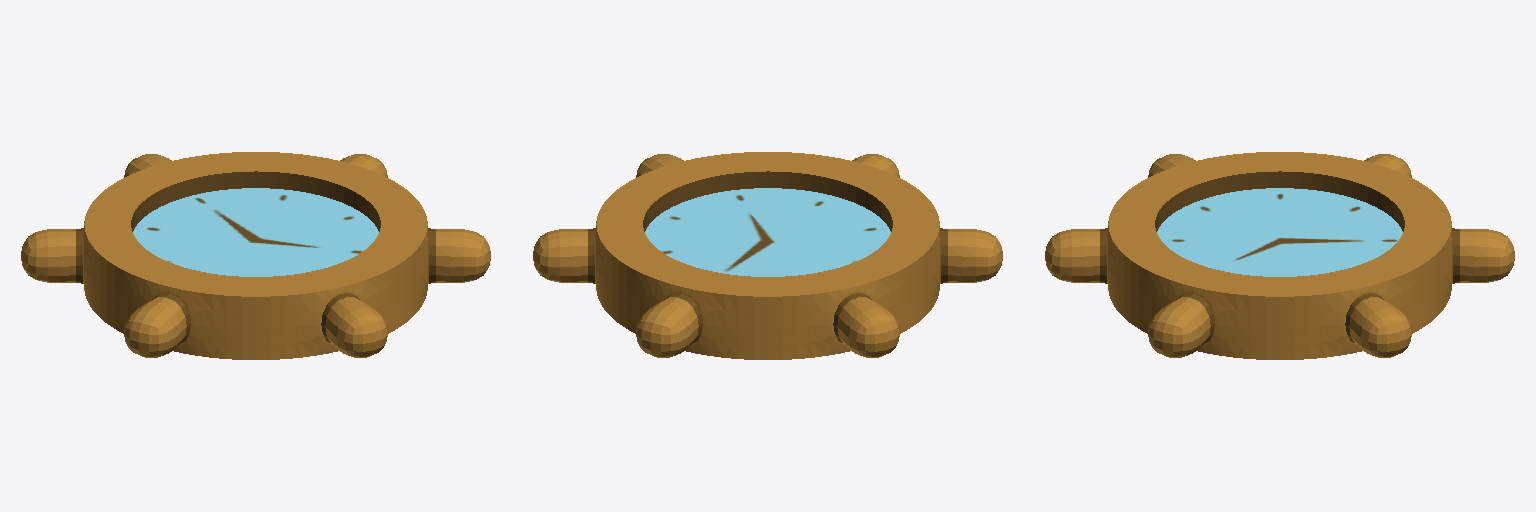
3 renders of one model, left to right at view 1: azimuth 30°, elevation 25°; view 2: azimuth 150°, elevation 25°; view 3: azimuth 270°, elevation 25°, orthographic.
Visible parts, largest first — view 1: Reloj; view 2: Reloj; view 3: Reloj.
Part boxes in pixels (left/top/right/bottom): Reloj: left=21, top=152, right=490, bottom=359; Reloj: left=533, top=152, right=1002, bottom=359; Reloj: left=1045, top=152, right=1514, bottom=359.
Size of the model in its own units: 0.2376 by 0.04 by 0.2689.
Materials: 1 (1 with a texture image).